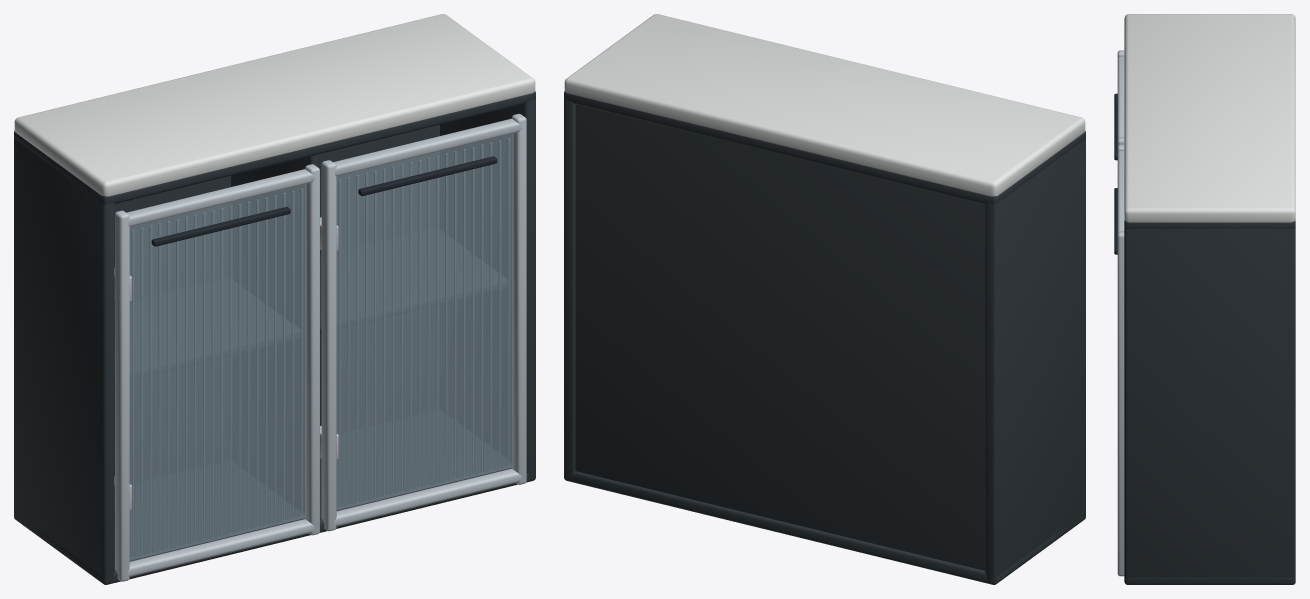
The model's file is ribbed-glass-upper.glb.
3 renders of one model, left to right at view 1: azimuth 30°, elevation 25°; view 2: azimuth 150°, elevation 25°; view 3: azimuth 270°, elevation 25°, orthographic. The views are drawn at different scales.
Parts seen in each view (by area): view 1: catalog_surface_RealismUV, catalog_surface_UVMap; view 2: catalog_surface_RealismUV, catalog_surface_UVMap; view 3: catalog_surface_RealismUV, catalog_surface_UVMap.
Boxes of the visible parts, x1=… form: catalog_surface_RealismUV: x1=14, y1=91, x2=535, y2=584; catalog_surface_UVMap: x1=14, y1=14, x2=535, y2=560; catalog_surface_RealismUV: x1=564, y1=91, x2=1085, y2=584; catalog_surface_UVMap: x1=564, y1=14, x2=1085, y2=196; catalog_surface_RealismUV: x1=1117, y1=50, x2=1295, y2=584; catalog_surface_UVMap: x1=1114, y1=14, x2=1295, y2=254.
Size of the model in its own units: 0.9 by 0.8 by 0.35.
